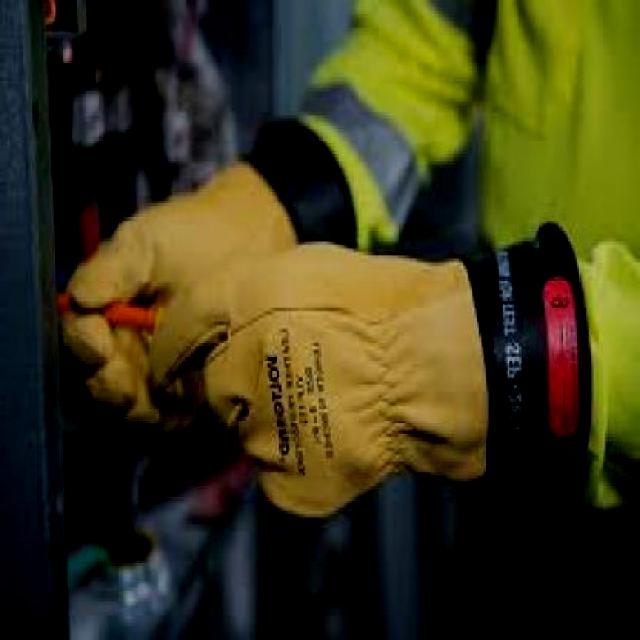gloves: (149, 223, 596, 522), (61, 120, 346, 420)
